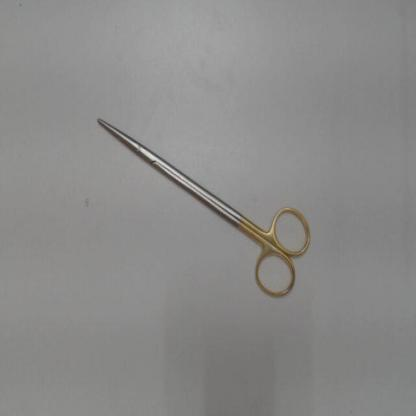7 Metzenbaum Scissors: (94, 112, 316, 308)
